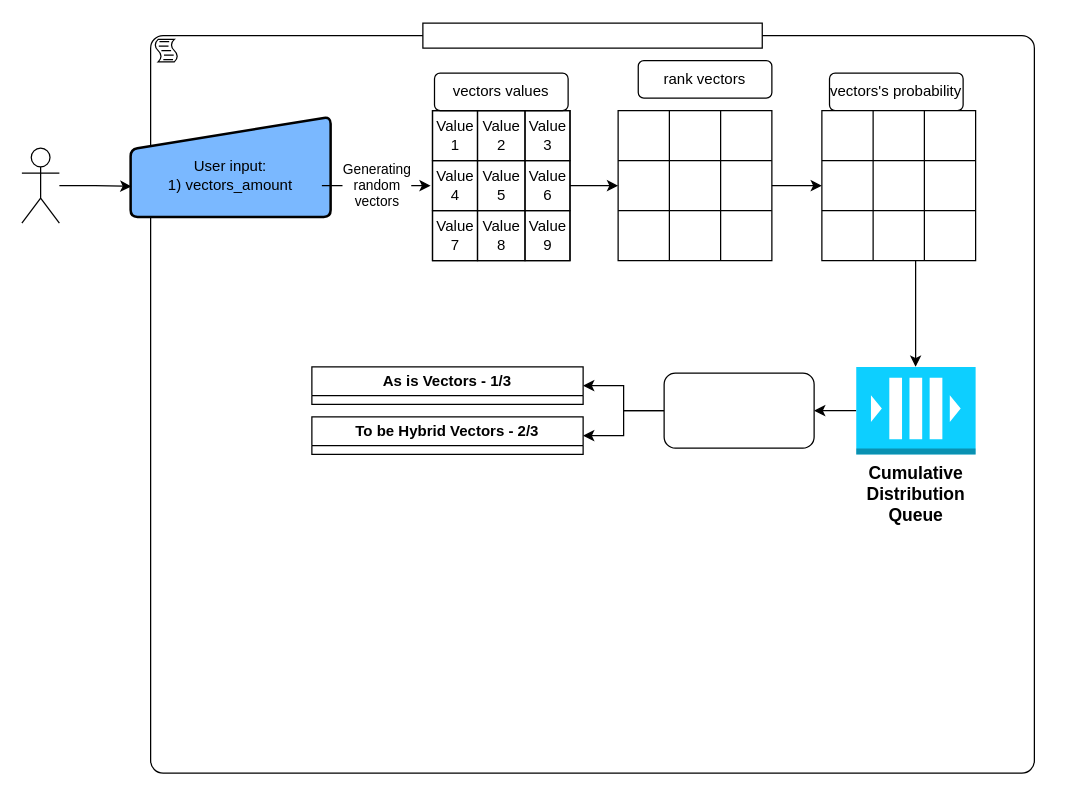
The diagram is 1073 pixels wide and 795 high, and some of its shapes have lost their labels. The shapes that lost their labels are listed below. From the top down, each one's centre as x and y in pixels, then its label:
At point 592,35: "Minimum ΣT(j) Python Script".
At point 40,185: "User".
At point 738,410: "Randomize probability and choose the winning vector per round".
